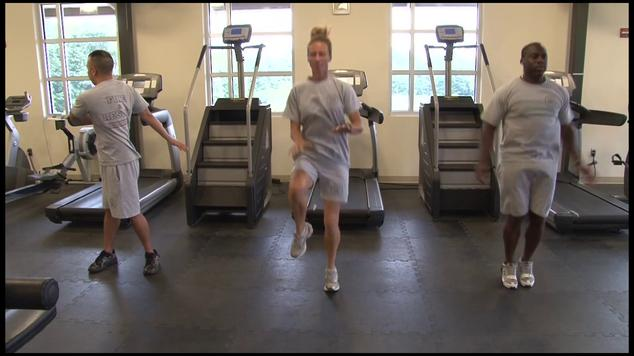stay: (487, 18, 572, 283), (280, 43, 372, 253), (62, 36, 158, 230)
